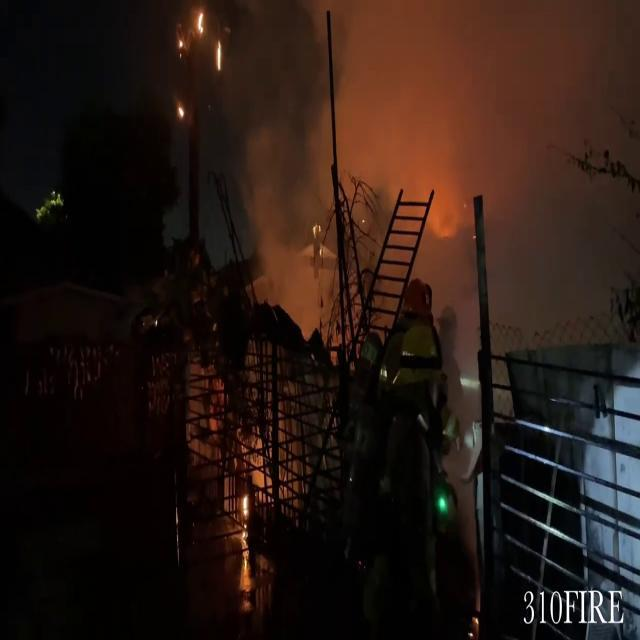Smoke: (228, 0, 636, 321)
